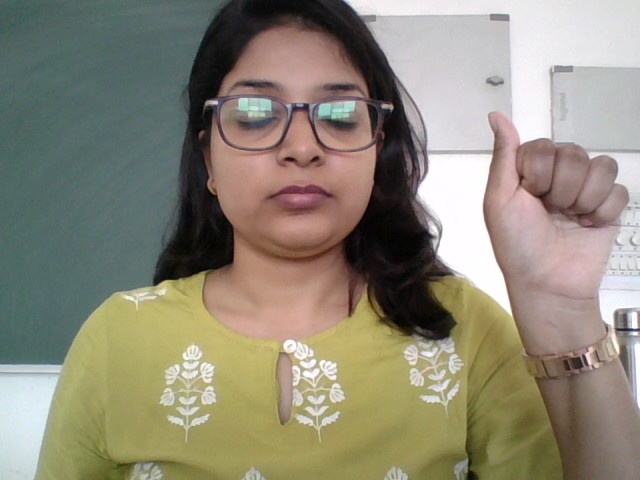A: (459, 106, 629, 324)
